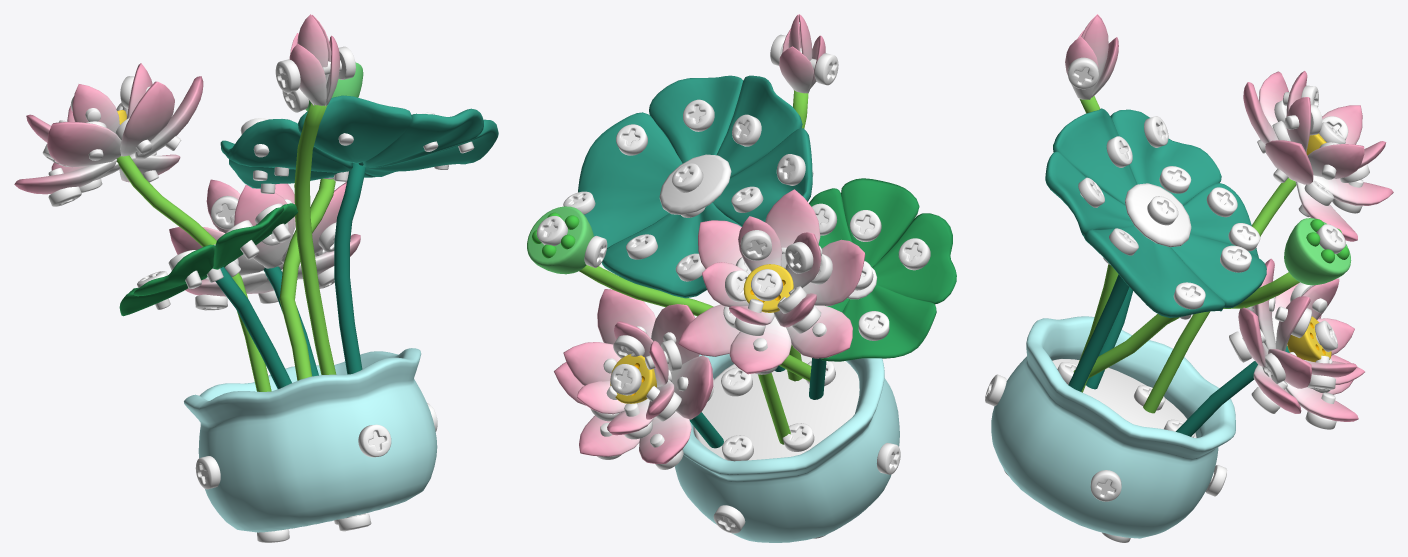
Rendered from Lotus.fbx.
The picture shows the model from 3 angles, left to right: view 1: azimuth 30°, elevation 25°; view 2: azimuth 150°, elevation 25°; view 3: azimuth 270°, elevation 25°; orthographic projection. The views are drawn at different scales.
Parts seen in each view (by area): view 1: Lotus.015, Lotus.012, Lotus.009, Lotus.021, Lotus.014, Lotus.002, Lotus.020, Screw (×4), Lotus.007, Lotus.032, Lotus.031, Lotus.004 (+16 smaller); view 2: Lotus.015, Screw (×25), Lotus.005, Lotus.009, Lotus.027, Lotus.014, Lotus.020, Lotus.018, Lotus.011, Lotus.021, Lotus.017, Lotus.002 (+31 smaller); view 3: Lotus.015, Lotus.009, Screw (×11), Lotus.027, Lotus.014, Lotus.002, Lotus.021, Lotus.012, Lotus.020, Lotus.005, Lotus.007, Lotus.003 (+22 smaller).
Boxes of the visible parts, left/top/right/bottom form: Lotus.015: left=184, top=348, right=437, bottom=532; Lotus.012: left=289, top=14, right=339, bottom=374; Lotus.009: left=334, top=119, right=498, bottom=374; Lotus.021: left=298, top=95, right=412, bottom=163; Lotus.014: left=279, top=62, right=363, bottom=380; Lotus.002: left=220, top=119, right=352, bottom=172; Lotus.020: left=363, top=108, right=483, bottom=167; Screw (×4): left=195, top=59, right=391, bottom=489; Lotus.007: left=116, top=110, right=271, bottom=391; Lotus.032: left=47, top=122, right=121, bottom=167; Lotus.031: left=120, top=81, right=174, bottom=156; Lotus.004: left=201, top=259, right=291, bottom=388; Lotus.015: left=674, top=354, right=899, bottom=542; Screw (×25): left=536, top=53, right=930, bottom=533; Lotus.005: left=693, top=354, right=859, bottom=460; Lotus.009: left=578, top=112, right=784, bottom=371; Lotus.027: left=601, top=202, right=741, bottom=298; Lotus.014: left=527, top=206, right=811, bottom=381; Lotus.020: left=649, top=75, right=743, bottom=163; Lotus.018: left=819, top=284, right=936, bottom=361; Lotus.011: left=872, top=213, right=956, bottom=304; Lotus.021: left=716, top=75, right=802, bottom=177; Lotus.017: left=841, top=178, right=919, bottom=267; Lotus.002: left=713, top=128, right=812, bottom=225; Lotus.015: left=991, top=316, right=1235, bottom=538; Lotus.009: left=1068, top=225, right=1224, bottom=391; Screw (×11): left=1078, top=104, right=1345, bottom=501; Lotus.027: left=1171, top=183, right=1266, bottom=308; Lotus.014: left=1073, top=218, right=1351, bottom=378; Lotus.002: left=1110, top=109, right=1221, bottom=205; Lotus.021: left=1053, top=108, right=1137, bottom=205; Lotus.012: left=1065, top=14, right=1118, bottom=392; Lotus.020: left=1045, top=151, right=1133, bottom=236; Lotus.005: left=1052, top=359, right=1196, bottom=437; Lotus.007: left=1143, top=133, right=1326, bottom=412; Lotus.003: left=1175, top=316, right=1331, bottom=436.
Bounding box in the file's own units: 8.9 × 11.92 × 8.76.
Materials: 4 (2 with a texture image).
